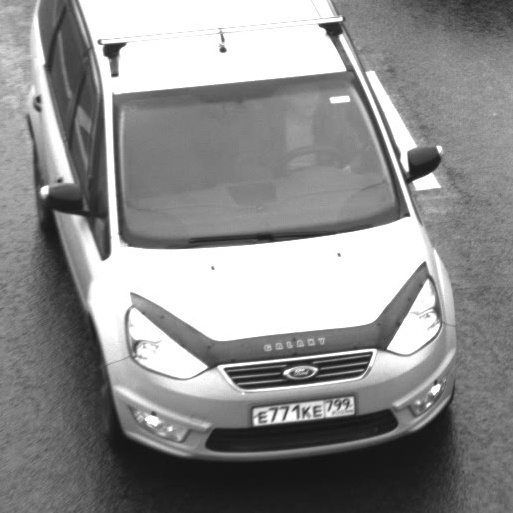plate: (243, 387, 366, 434)
